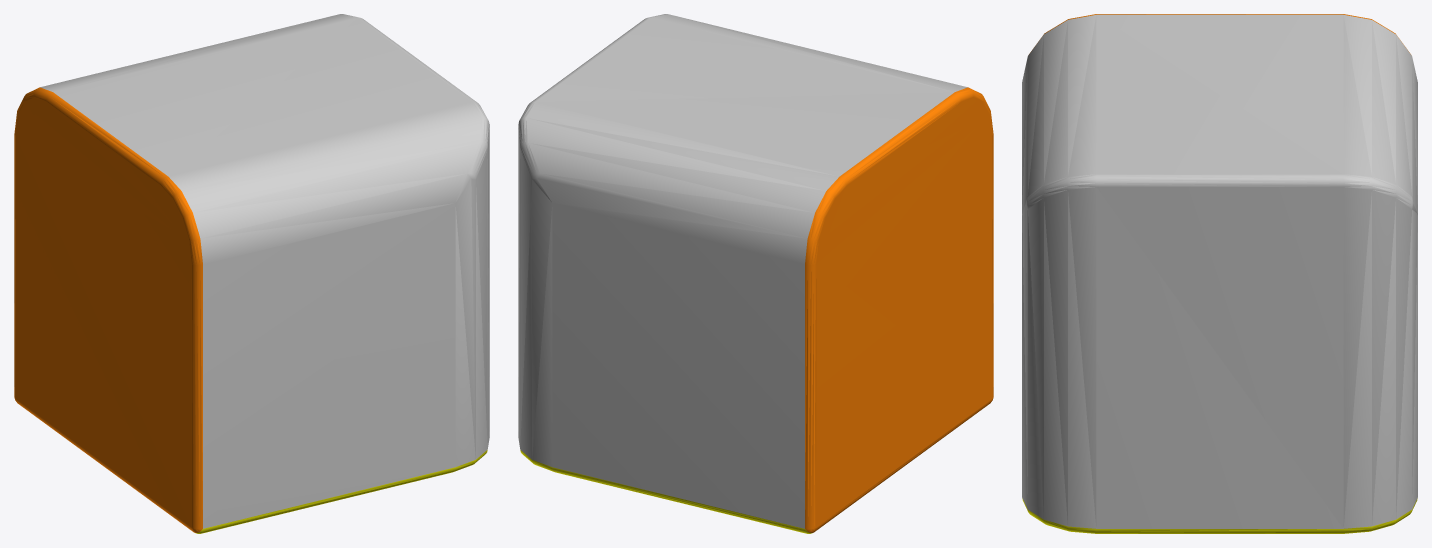
3 renders of one model, left to right at view 1: azimuth 30°, elevation 25°; view 2: azimuth 150°, elevation 25°; view 3: azimuth 270°, elevation 25°, orthographic. The views are drawn at different scales.
Parts seen in each view (by area): view 1: edge_DL; view 2: edge_DL; view 3: edge_DL.
Part boxes in pixels (x1,y1,x2,y2): edge_DL: [14, 14, 489, 533]; edge_DL: [518, 14, 993, 533]; edge_DL: [1022, 14, 1417, 533].
Bounding box in the file's own units: 0.2003 × 0.2003 × 0.2003.
Materials: 1 (1 with a texture image).
